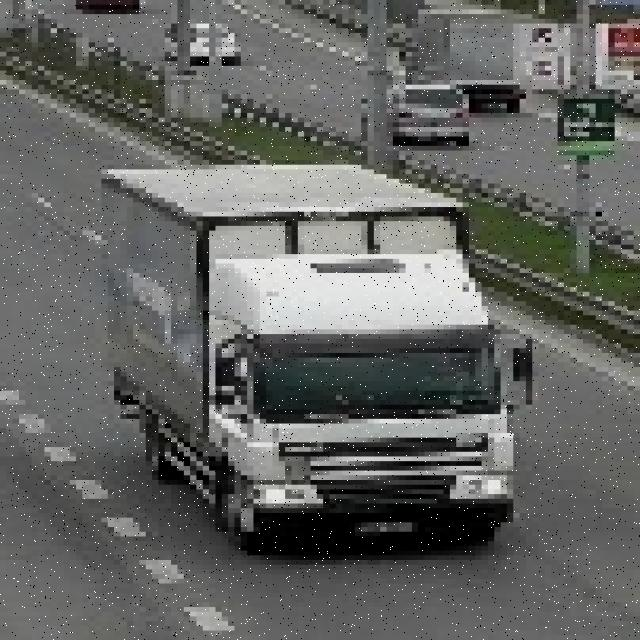truck: (107, 160, 538, 551)
